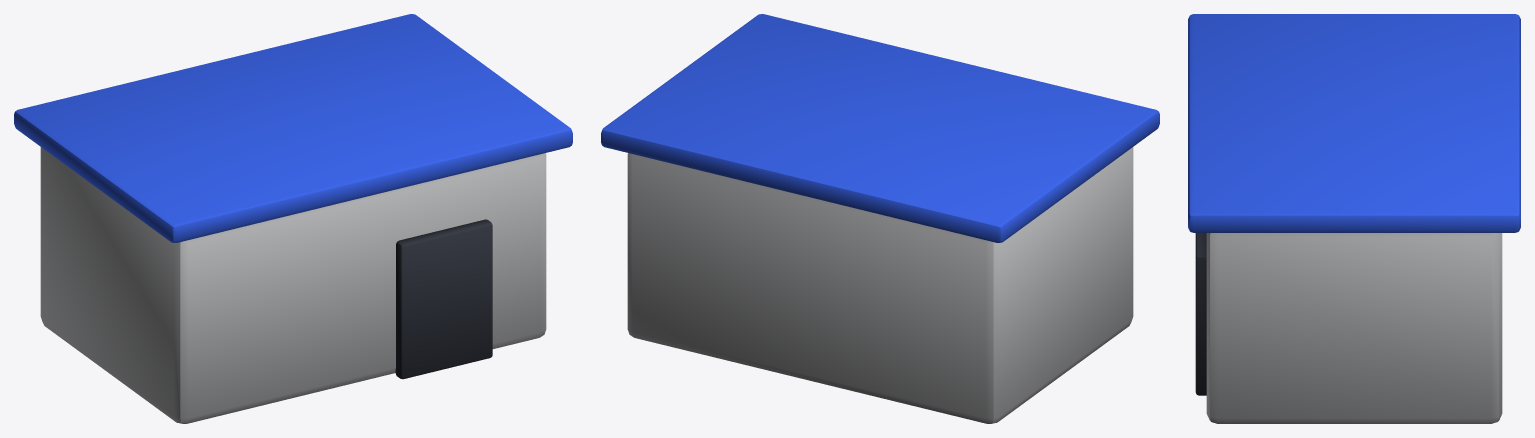
File: probe.envelope.glb
3 renders of one model, left to right at view 1: azimuth 30°, elevation 25°; view 2: azimuth 150°, elevation 25°; view 3: azimuth 270°, elevation 25°, orthographic. The views are drawn at different scales.
Visible parts, largest first — view 1: probe.white, probe.signal, probe.graphite; view 2: probe.white, probe.signal; view 3: probe.signal, probe.white, probe.graphite.
Part boxes in pixels (x1,y1,x2,y2): probe.white: (40,147,546,423); probe.signal: (14,14,572,242); probe.graphite: (395,219,492,379); probe.white: (627,147,1133,423); probe.signal: (601,14,1159,242); probe.signal: (1188,14,1520,232); probe.white: (1206,233,1502,423); probe.graphite: (1195,233,1206,395).
Size of the model in its own units: 1.3 by 0.66 by 0.9.
